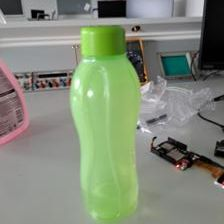bottle: (68, 20, 140, 223)
